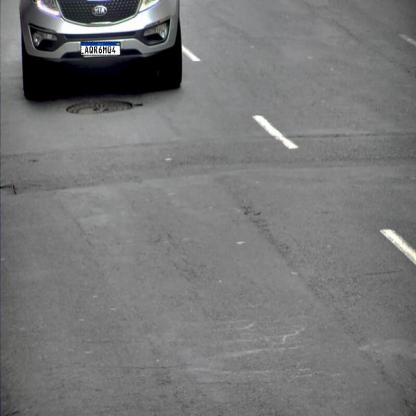PlacaM: (80, 42, 121, 56)
